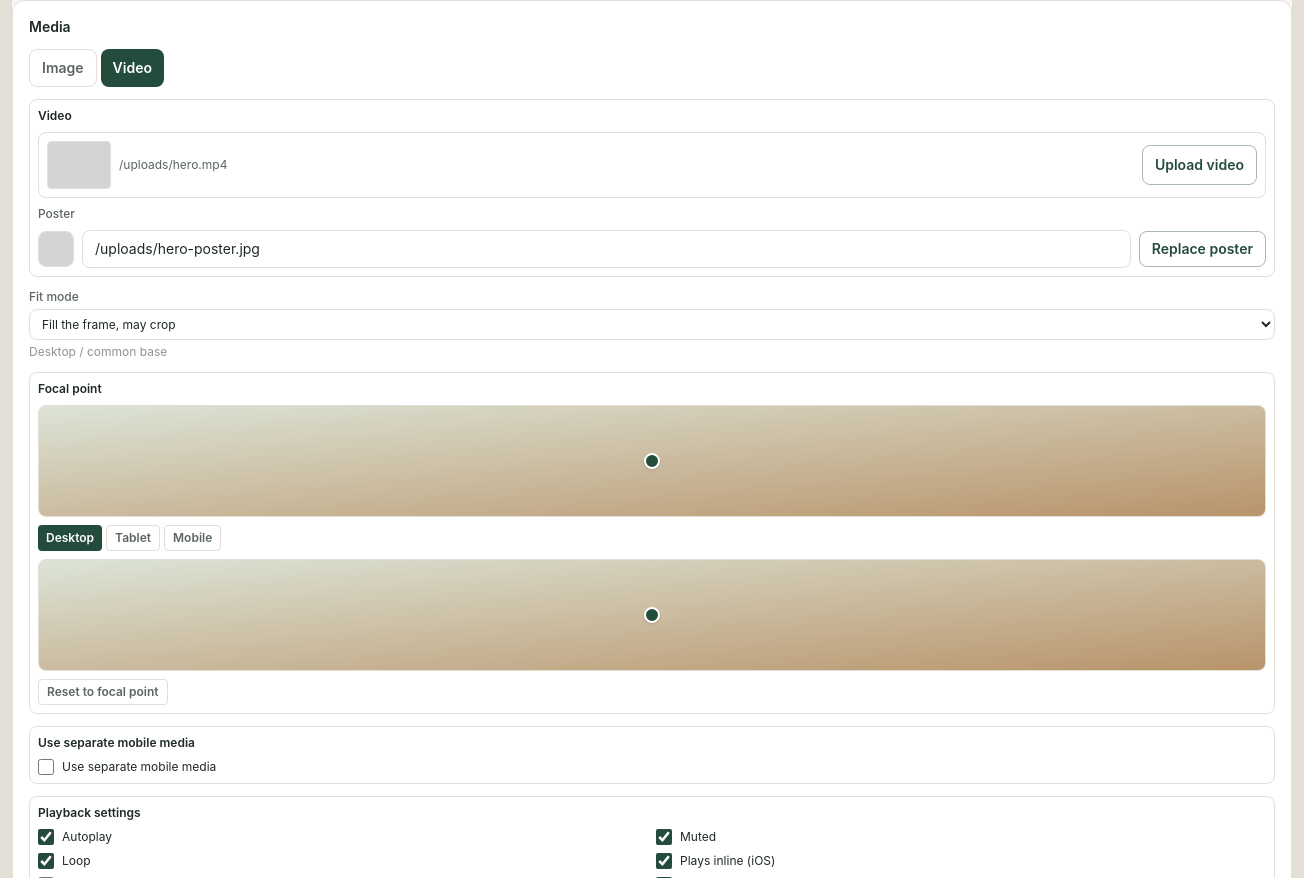
Test: HeroMediaSettings › preserves independent image and video slots when switching type
Click the button "Image" at (63, 68), box [29, 49, 97, 87]
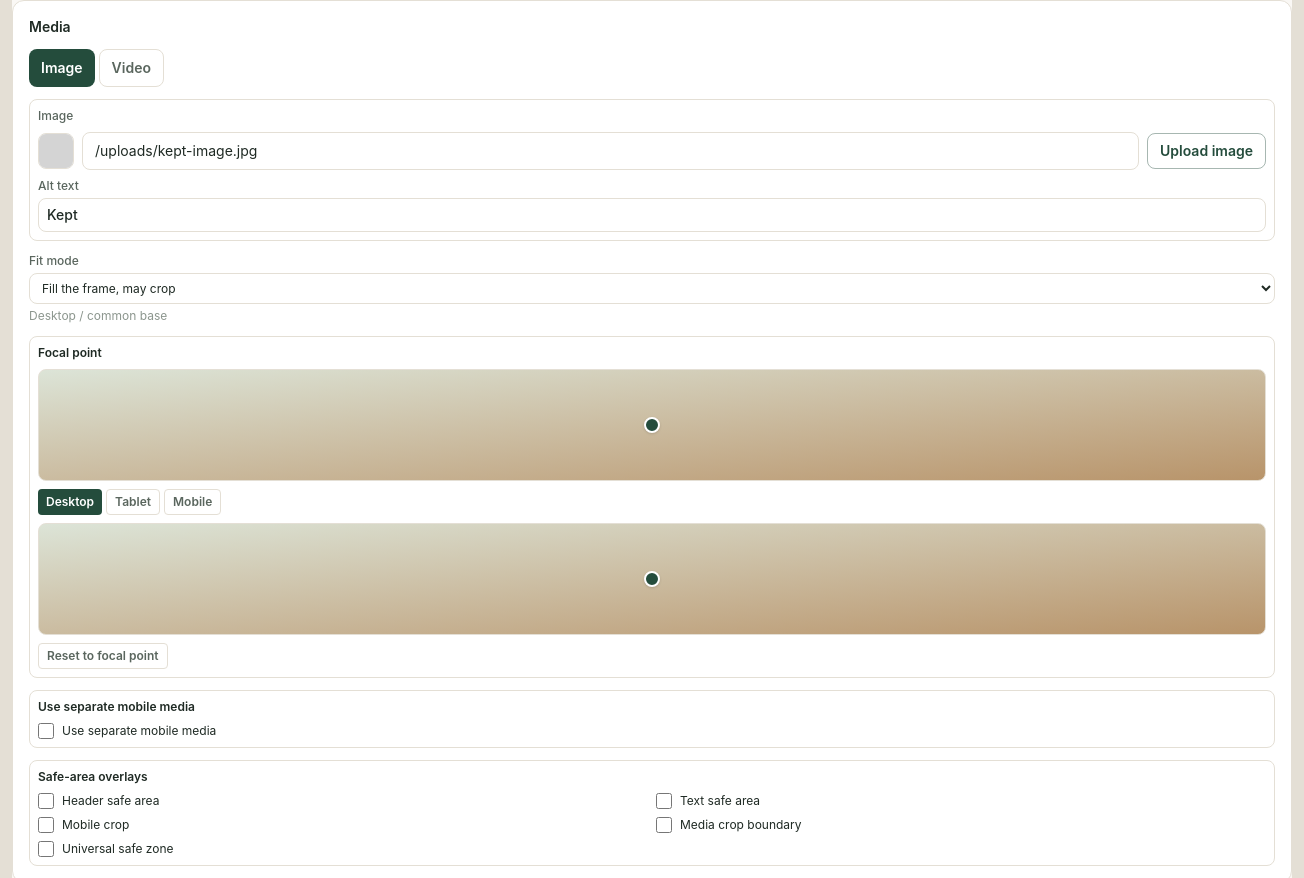
Click the button "Video" at (131, 68), box [99, 49, 164, 87]
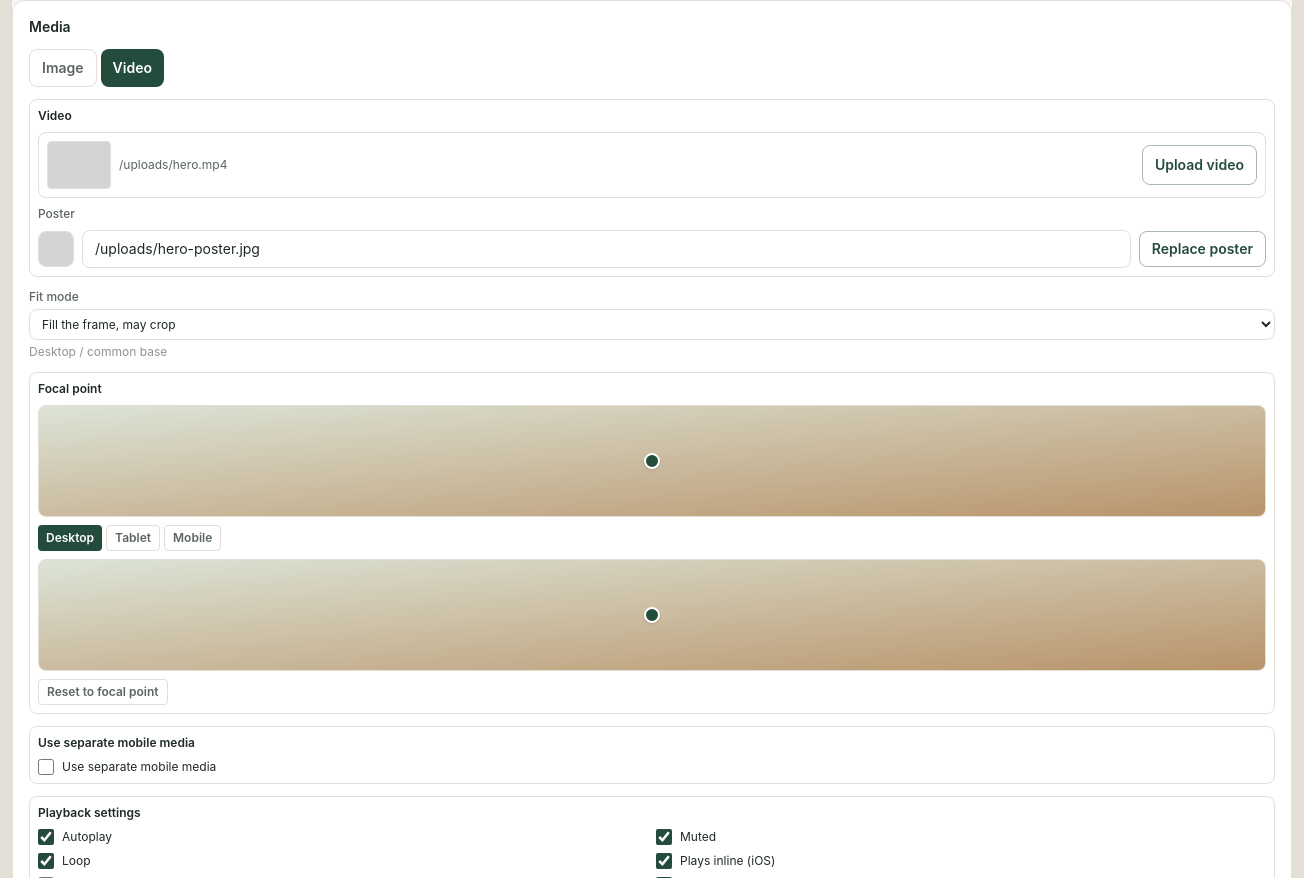
Now the text with test id "video-url" reads "/uploads/hero.mp4", box [119, 157, 227, 172]
